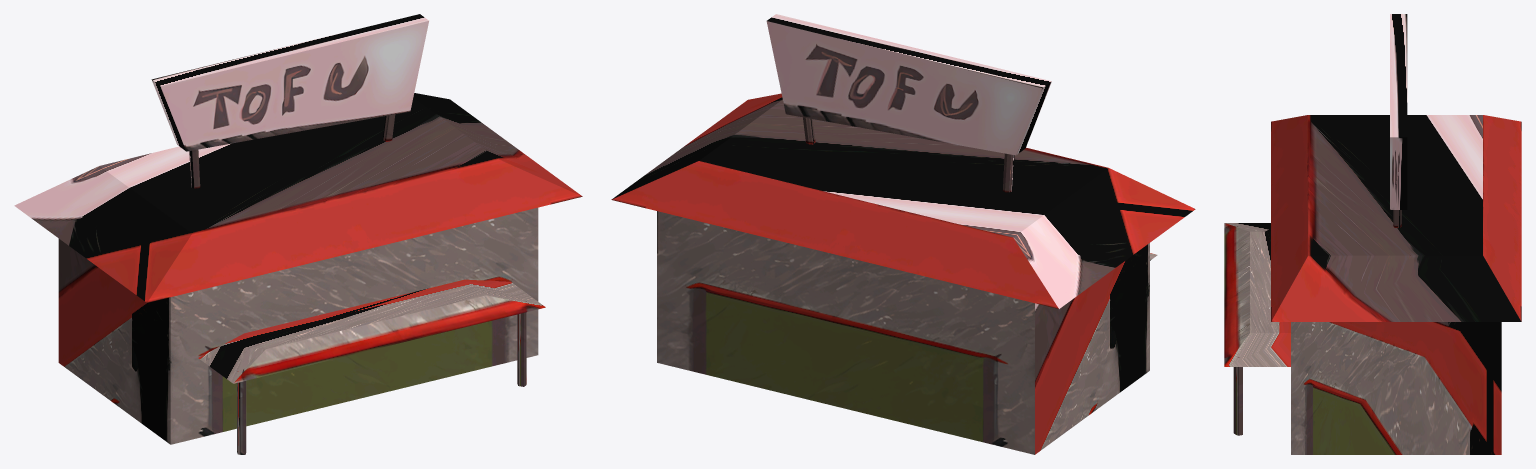
The model's file is House9.glb.
3 views of the same model, side by side, from view 1: azimuth 30°, elevation 25°; view 2: azimuth 150°, elevation 25°; view 3: azimuth 270°, elevation 25° (orthographic). The views are drawn at different scales.
Visible parts, largest first — view 1: House9; view 2: House9; view 3: House9.
Boxes of the visible parts, x1,y1,x2,y2 form: House9: (14, 14, 582, 454); House9: (611, 14, 1195, 454); House9: (1224, 14, 1521, 454).
Size of the model in its own units: 168 by 114 by 105.
1 material, 1 textured.
